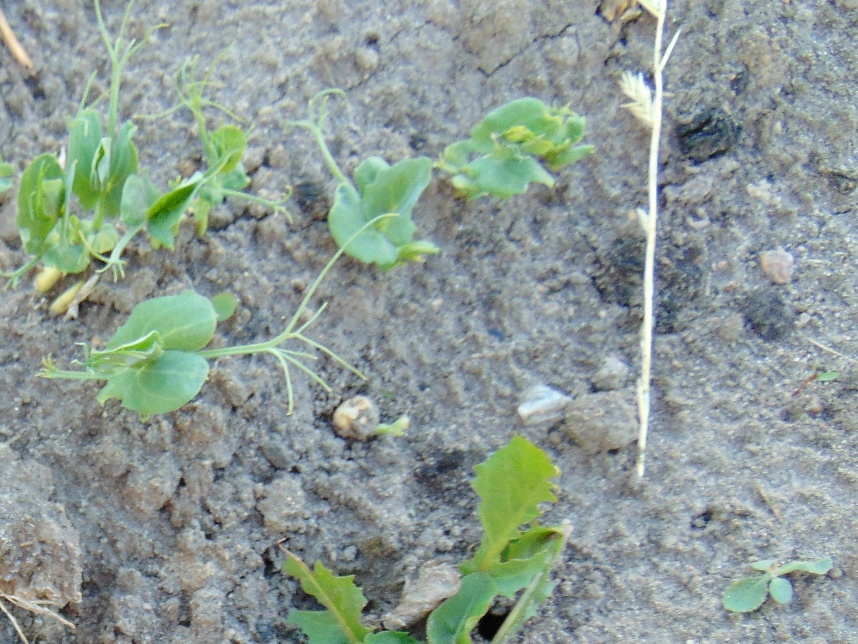crop: (1, 15, 266, 325), (35, 277, 358, 419), (279, 84, 443, 265), (431, 93, 596, 200)
weed: (272, 432, 571, 642), (722, 545, 833, 617)
